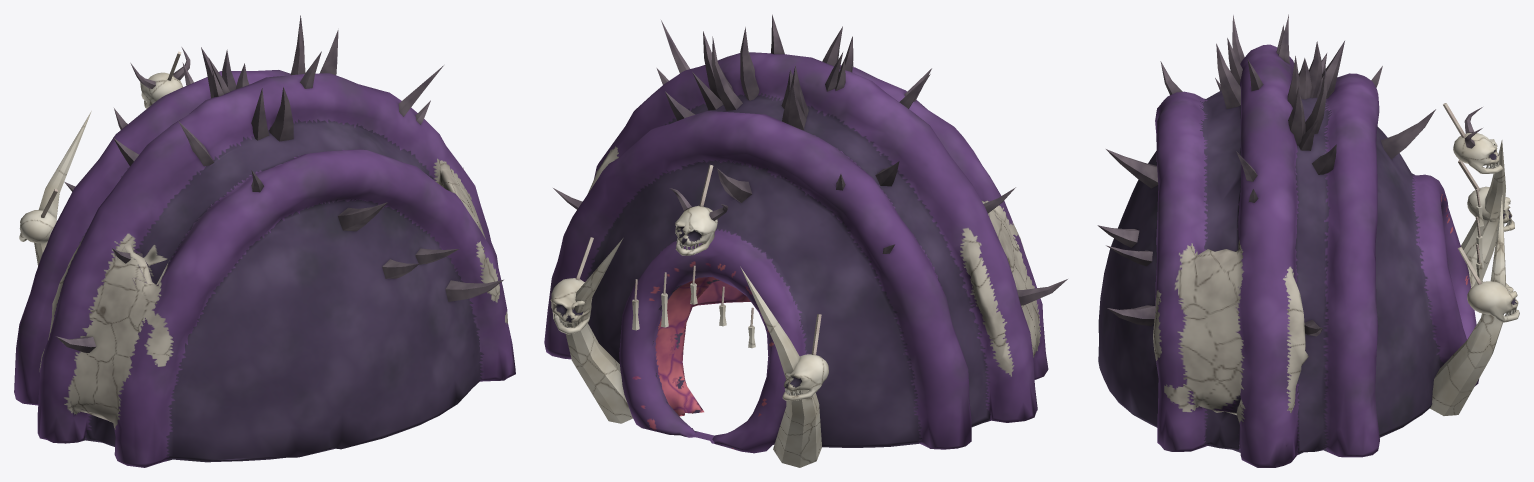
File: nido_guerrero.fbx
The picture shows the model from 3 angles, left to right: view 1: azimuth 30°, elevation 25°; view 2: azimuth 150°, elevation 25°; view 3: azimuth 270°, elevation 25°; orthographic projection. The views are drawn at different scales.
Visible parts, largest first — view 1: nido; view 2: nido; view 3: nido.
Part boxes in pixels (bbox=[...]): nido: bbox=[14, 15, 515, 467]; nido: bbox=[544, 14, 1067, 467]; nido: bbox=[1097, 14, 1519, 467].
Size of the model in its own units: 10.01 by 7 by 8.
Materials: 1 (1 with a texture image).
